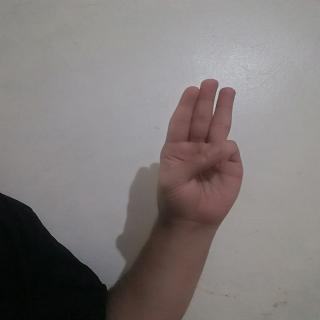THA: (148, 72, 244, 216)
